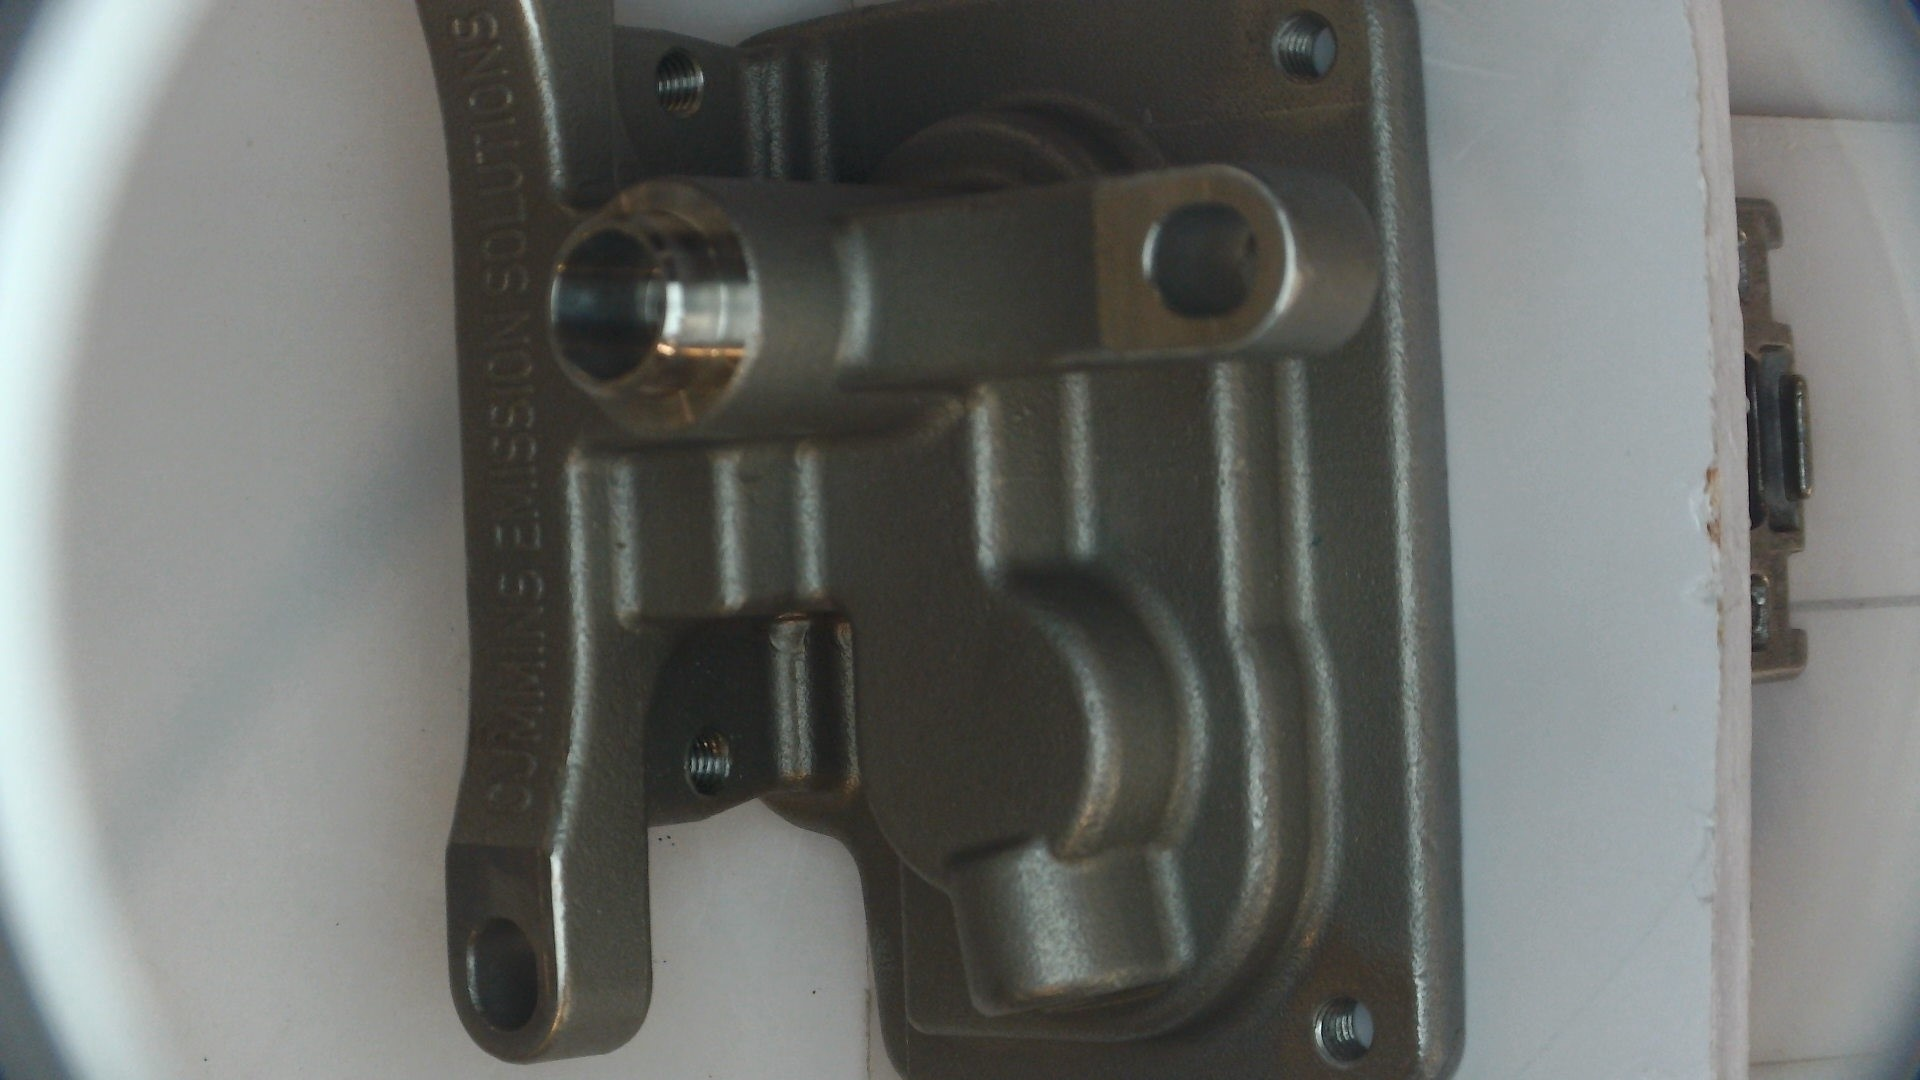thread_presence: (1271, 7, 1331, 86), (654, 44, 705, 120), (1313, 996, 1366, 1063), (686, 727, 733, 796)
